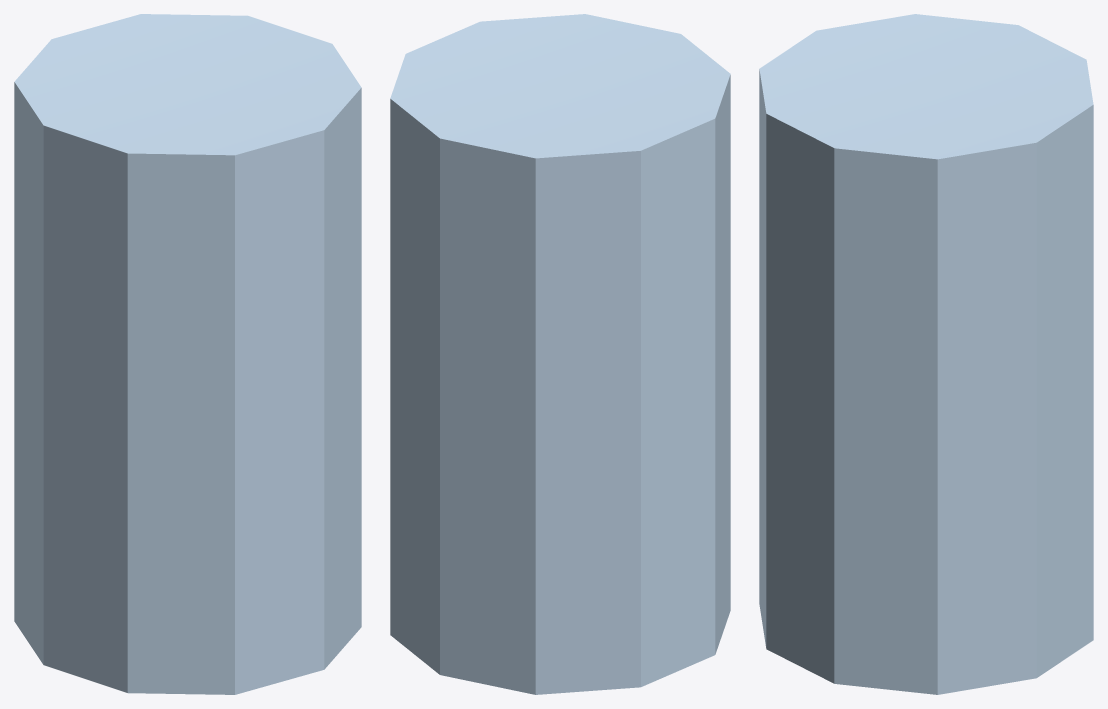
The model's file is tankglass.obj.
3 renders of one model, left to right at view 1: azimuth 30°, elevation 25°; view 2: azimuth 150°, elevation 25°; view 3: azimuth 270°, elevation 25°, orthographic.
Visible parts, largest first — view 1: pCylinder1; view 2: pCylinder1; view 3: pCylinder1.
Part boxes in pixels (left/top/right/bottom): pCylinder1: left=14, top=14, right=361, bottom=694; pCylinder1: left=390, top=14, right=730, bottom=694; pCylinder1: left=759, top=14, right=1093, bottom=694.
Bounding box in the file's own units: 3.47 × 5.96 × 3.37.
Materials: 1 (1 with a texture image).
